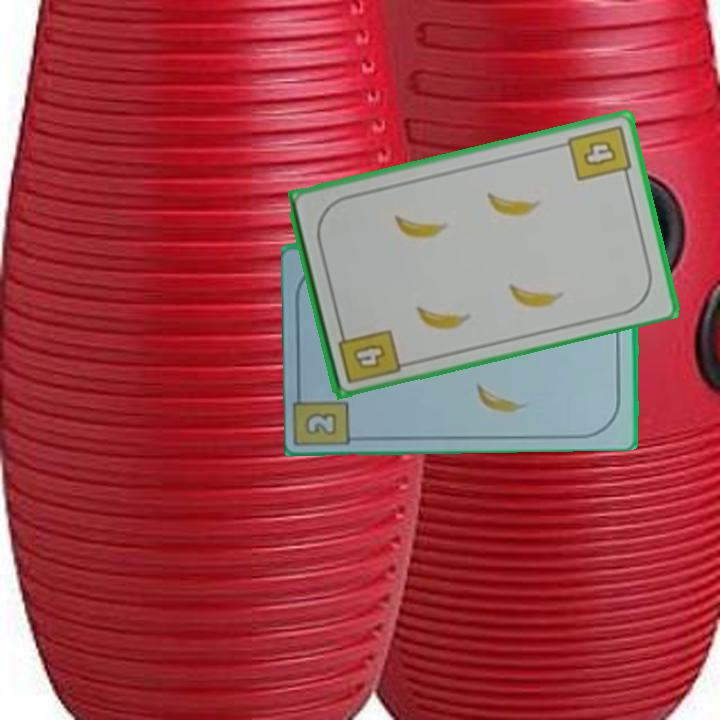2b: (301, 409, 341, 438)
4b: (334, 322, 403, 387), (564, 120, 634, 184)
